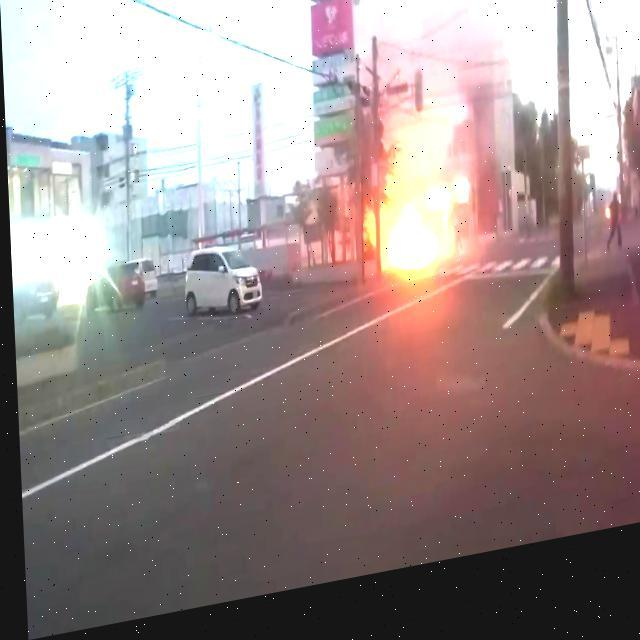Fire: (366, 209, 448, 294)
